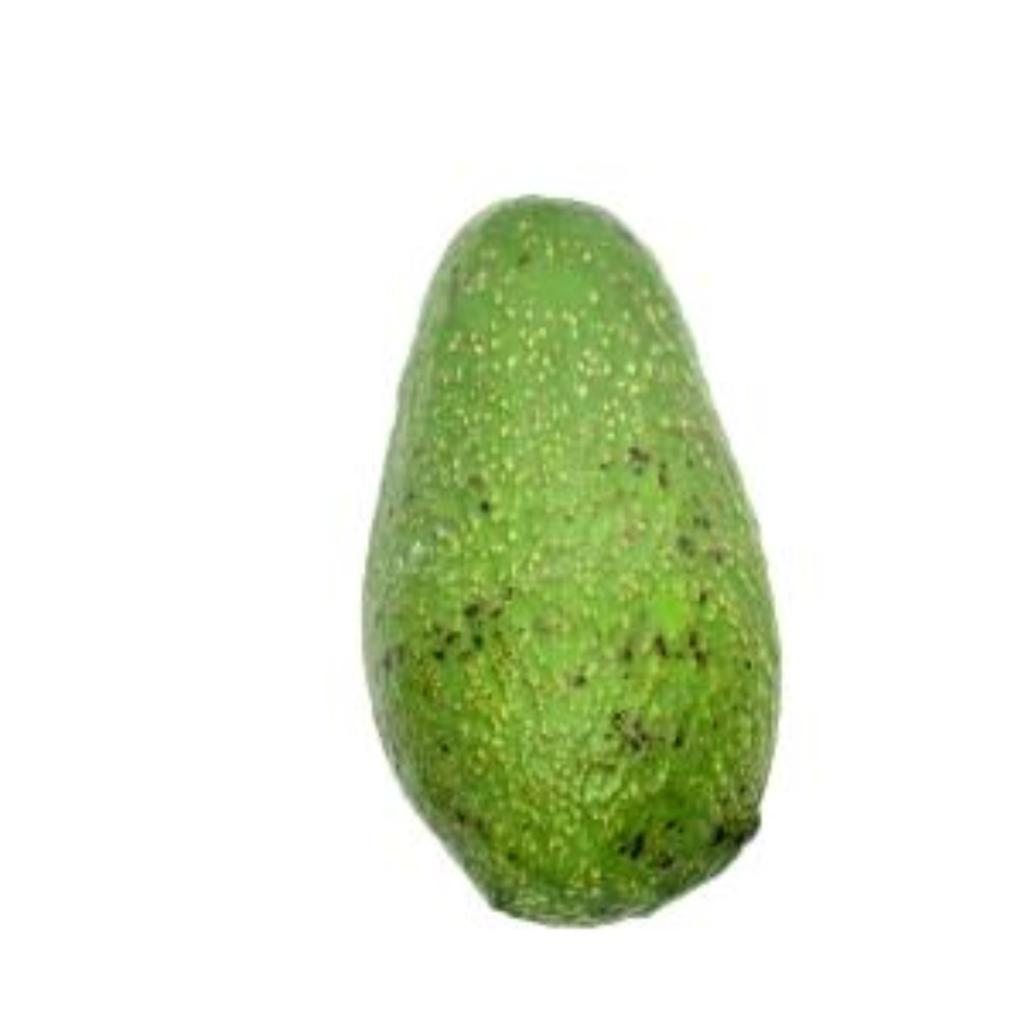cercospora: (319, 169, 804, 930)
